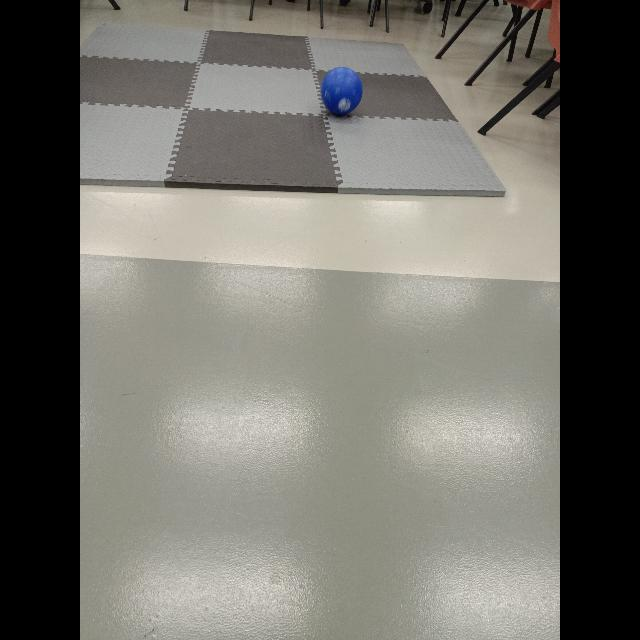B: (321, 66, 363, 116)
